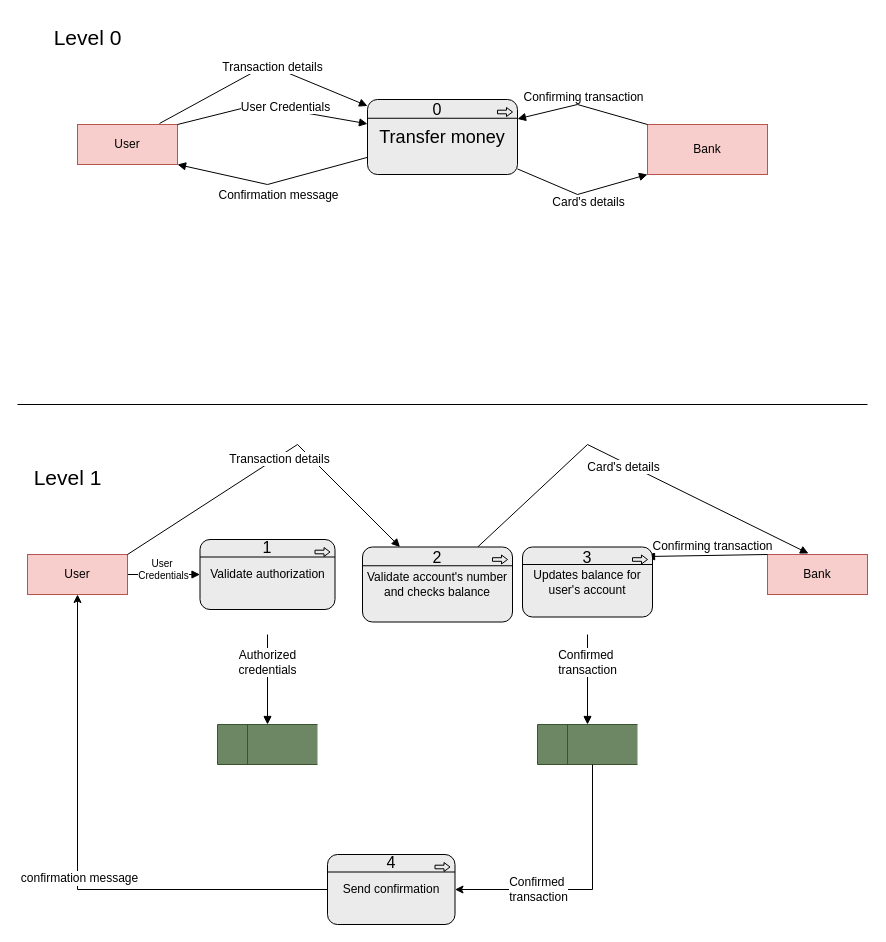
The diagram is 886 pixels wide and 942 high, and some of its shapes have lost their labels. Each missing label, with the centre of its shape:
"Bank's transaction DS" goes at point 587,744.
"User's account DS" goes at point 267,744.
